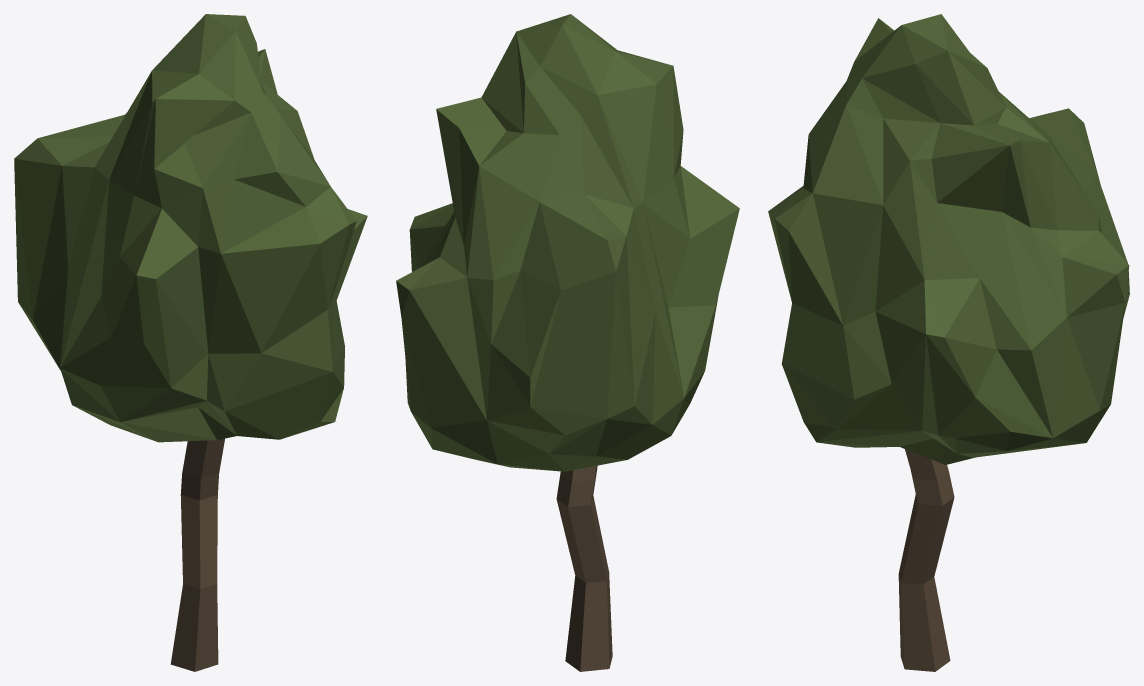
File: tree_090.fbx
3 views of the same model, side by side, from view 1: azimuth 30°, elevation 25°; view 2: azimuth 150°, elevation 25°; view 3: azimuth 270°, elevation 25° (orthographic). The views are drawn at different scales.
Parts seen in each view (by area): view 1: tree_090; view 2: tree_090; view 3: tree_090.
Part boxes in pixels (x1,y1,x2,y2): tree_090: (14,14,367,671); tree_090: (396,14,739,671); tree_090: (768,14,1129,671).
Bounding box in the file's own units: 1.6 × 3.38 × 1.68.
1 material, 1 textured.
